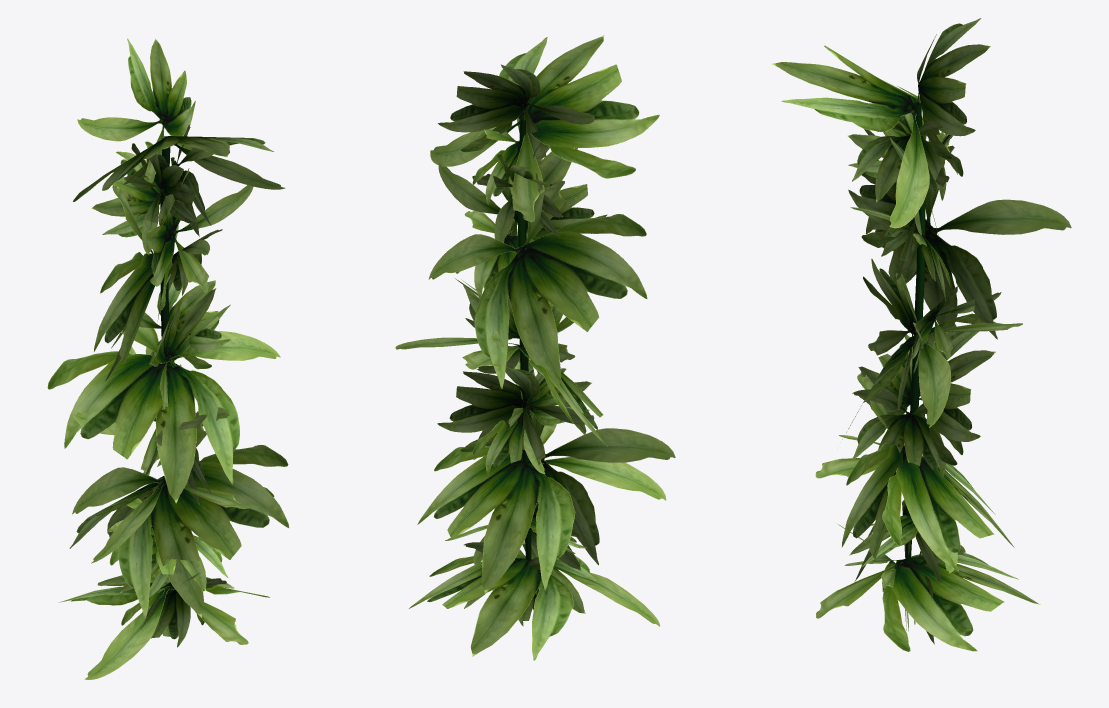
Rendered from IvyHanging_B_01_Low.FBX.
3 renders of one model, left to right at view 1: azimuth 30°, elevation 25°; view 2: azimuth 150°, elevation 25°; view 3: azimuth 270°, elevation 25°, orthographic. The views are drawn at different scales.
Visible parts, largest first — view 1: IvyHanging_B_01_Low; view 2: IvyHanging_B_01_Low; view 3: IvyHanging_B_01_Low.
Boxes of the visible parts, x1,y1,x2,y2 form: IvyHanging_B_01_Low: [47, 38, 289, 679]; IvyHanging_B_01_Low: [395, 35, 675, 660]; IvyHanging_B_01_Low: [772, 18, 1071, 651].
Size of the model in its own units: 0.4573 by 0.9634 by 0.4952.
